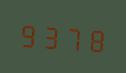eight: (84, 21, 105, 55)
nine: (18, 16, 39, 51)
seven: (62, 20, 83, 54)
three: (40, 18, 61, 52)
